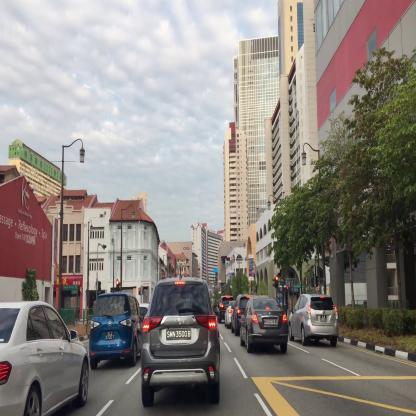red_traffic_light: (275, 276, 278, 288), (116, 280, 118, 291), (226, 257, 232, 260)
